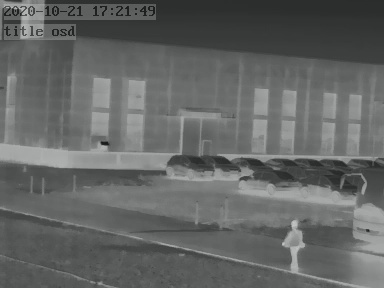person: (279, 216, 307, 268)
vehicle: (238, 169, 303, 191), (164, 153, 213, 179), (299, 174, 345, 200), (204, 153, 243, 177), (232, 154, 270, 171), (344, 155, 380, 172), (319, 156, 352, 171), (261, 155, 296, 169), (296, 155, 326, 169)
